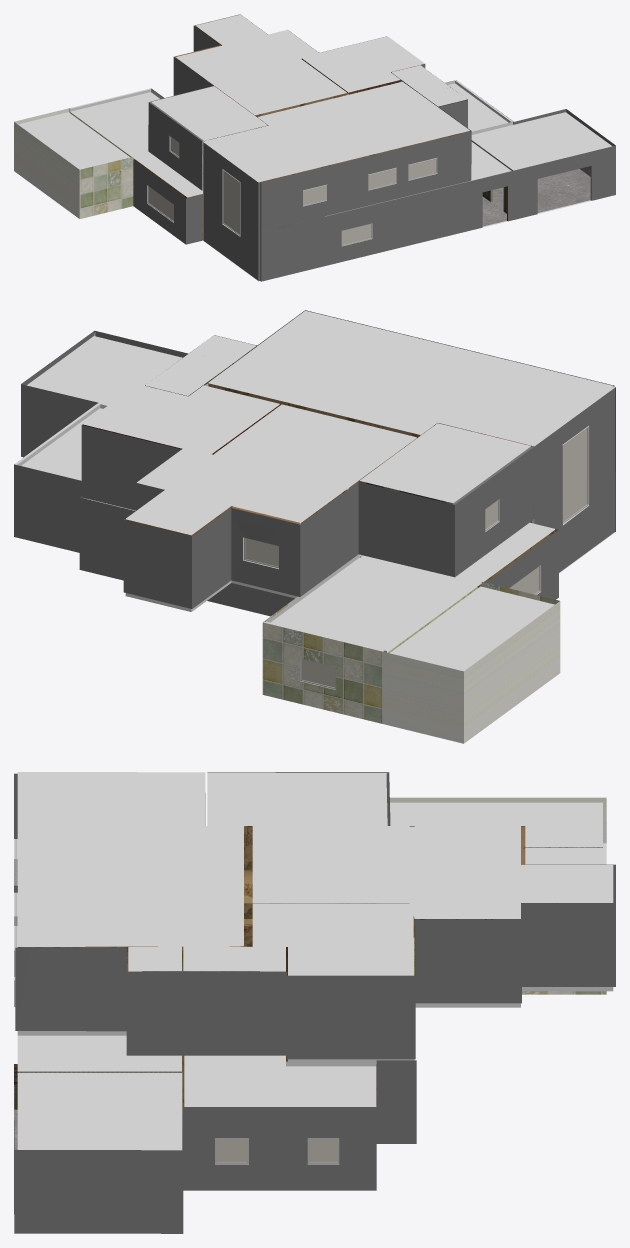
Rendered from House_Carcass.fbx.
3 renders of one model, top to bottom at view 1: azimuth 30°, elevation 25°; view 2: azimuth 150°, elevation 25°; view 3: azimuth 270°, elevation 25°, orthographic. The views are drawn at different scales.
Parts seen in each view (by area): view 1: House, outside, kitchen, Window, Floor_Garage, livingroom, Window_frame; view 2: House, outside, kitchen, Window, livingroom, Window_frame; view 3: House, outside, kitchen, livingroom, Window, Window_frame.
Part boxes in pixels (<box>): House: <box>18,14,611,280</box>; outside: <box>133,14,615,281</box>; kitchen: <box>14,88,163,218</box>; Window: <box>148,137,436,244</box>; Floor_Garage: <box>482,169,590,226</box>; livingroom: <box>134,82,469,239</box>; Window_frame: <box>147,136,437,246</box>; House: <box>14,310,615,689</box>; outside: <box>14,310,615,616</box>; kitchen: <box>262,582,560,743</box>; Window: <box>245,428,587,687</box>; livingroom: <box>208,383,555,587</box>; Window_frame: <box>244,427,588,689</box>; House: <box>14,772,613,1164</box>; outside: <box>14,772,615,1233</box>; kitchen: <box>390,797,606,994</box>; livingroom: <box>17,793,414,1106</box>; Window: <box>216,1138,337,1163</box>; Window_frame: <box>14,839,339,1164</box>.
Bounding box in the file's own units: 3.45 × 0.7689 × 2.49.
